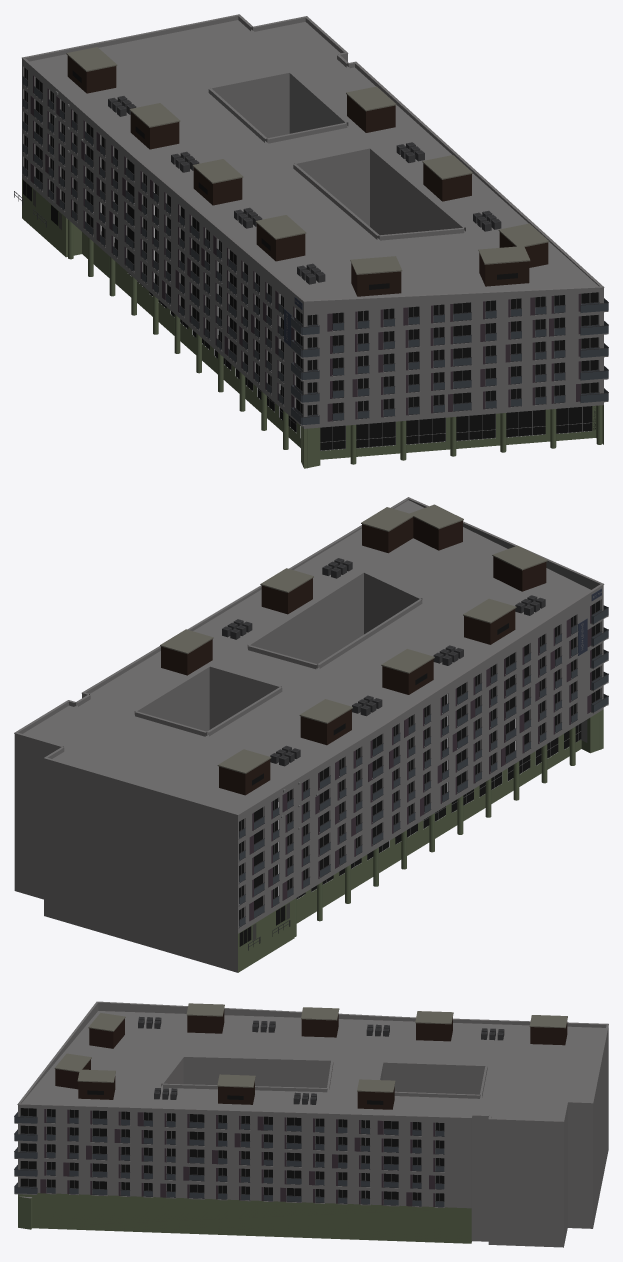
Rendered from pointe-on-rio-look.glb.
The picture shows the model from 3 angles, top to bottom: view 1: azimuth 30°, elevation 25°; view 2: azimuth 150°, elevation 25°; view 3: azimuth 270°, elevation 25°; orthographic projection. The views are drawn at different scales.
Parts seen in each view (by area): view 1: n_wall_white, n_roof_membrane, n_glass_window, n_rig_ground, n_rail_frosted_panel, n_roofbox_panel_brown, n_panel_maroon, n_roofbox_cap, n_glass_storefront, n_rail_metal_dark, n_frame_white, n_hvac_grey; view 2: n_wall_white, n_roof_membrane, n_roofbox_panel_brown, n_rig_ground, n_glass_window, n_rail_frosted_panel, n_roofbox_cap, n_panel_maroon, n_rail_metal_dark, n_hvac_grey, n_frame_white, n_glass_storefront; view 3: n_wall_white, n_roof_membrane, n_rig_ground, n_glass_window, n_rail_frosted_panel, n_roofbox_panel_brown, n_roofbox_cap, n_panel_maroon, n_rail_metal_dark, n_frame_white, n_hvac_grey.
Boxes of the visible parts, box(x1,y1,x2,y2) form: n_wall_white: box(22, 14, 608, 428); n_roof_membrane: box(30, 20, 598, 300); n_glass_window: box(24, 67, 598, 419); n_rig_ground: box(22, 179, 603, 468); n_rail_frosted_panel: box(22, 77, 608, 425); n_roofbox_panel_brown: box(67, 55, 548, 296); n_panel_maroon: box(30, 75, 580, 421); n_roofbox_cap: box(66, 47, 549, 274); n_glass_storefront: box(23, 180, 595, 450); n_rail_metal_dark: box(14, 76, 608, 421); n_frame_white: box(26, 70, 599, 450); n_hvac_grey: box(108, 96, 501, 284); n_wall_white: box(14, 497, 608, 972); n_roof_membrane: box(23, 500, 590, 813); n_roofbox_panel_brown: box(161, 517, 546, 795); n_rig_ground: box(238, 709, 603, 972); n_glass_window: box(239, 600, 600, 925); n_rail_frosted_panel: box(239, 606, 608, 926); n_roofbox_cap: box(160, 504, 547, 773); n_panel_maroon: box(249, 605, 591, 921); n_rail_metal_dark: box(224, 558, 608, 950); n_hvac_grey: box(222, 558, 545, 766); n_frame_white: box(241, 600, 600, 918); n_glass_storefront: box(239, 723, 581, 946); n_wall_white: box(14, 1001, 608, 1247); n_roof_membrane: box(21, 1011, 605, 1120); n_rig_ground: box(18, 1193, 471, 1243); n_glass_window: box(20, 1108, 444, 1201); n_rail_frosted_panel: box(14, 1113, 444, 1206); n_roofbox_panel_brown: box(55, 1009, 567, 1109); n_roofbox_cap: box(54, 1003, 567, 1092); n_panel_maroon: box(40, 1109, 434, 1206); n_rail_metal_dark: box(14, 1017, 503, 1207); n_frame_white: box(20, 1108, 444, 1206); n_hvac_grey: box(138, 1016, 504, 1104).
Size of the model in its own units: 43.31 by 24.36 by 93.36.
